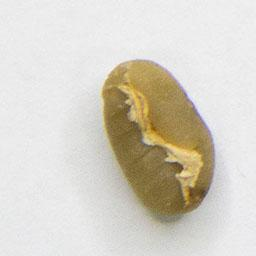premium: (98, 53, 220, 219)
